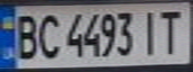3: (115, 8, 139, 57)
4: (81, 9, 103, 58), (63, 9, 84, 58)
9: (97, 9, 118, 58)
B: (9, 10, 42, 61)
C: (33, 10, 63, 60)
I: (136, 7, 163, 56)
T: (154, 7, 187, 55)
